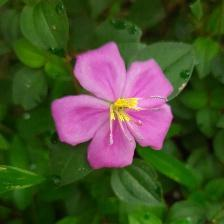malabar melastome: (50, 41, 176, 173)
